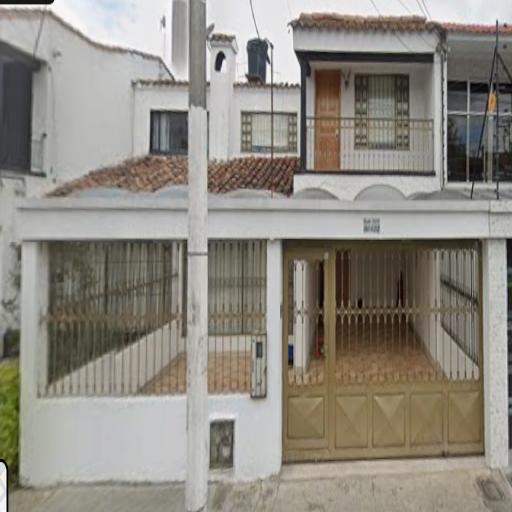poste: (185, 0, 210, 512)
